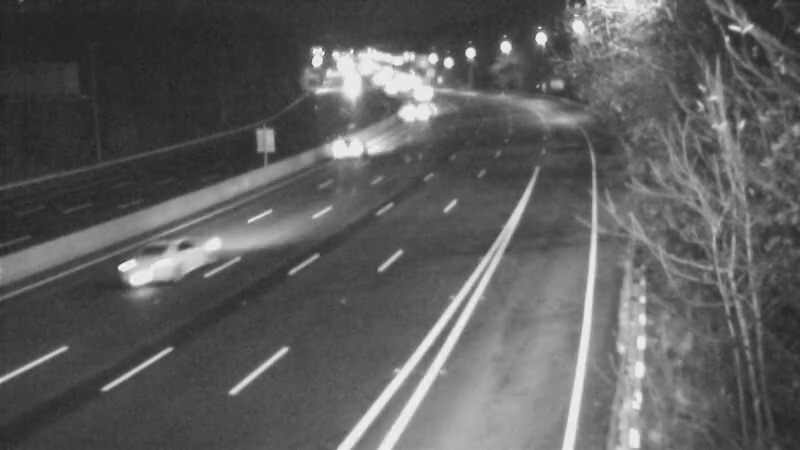vehicle: (128, 219, 208, 299), (401, 68, 451, 118), (393, 86, 443, 136), (327, 125, 377, 175)
